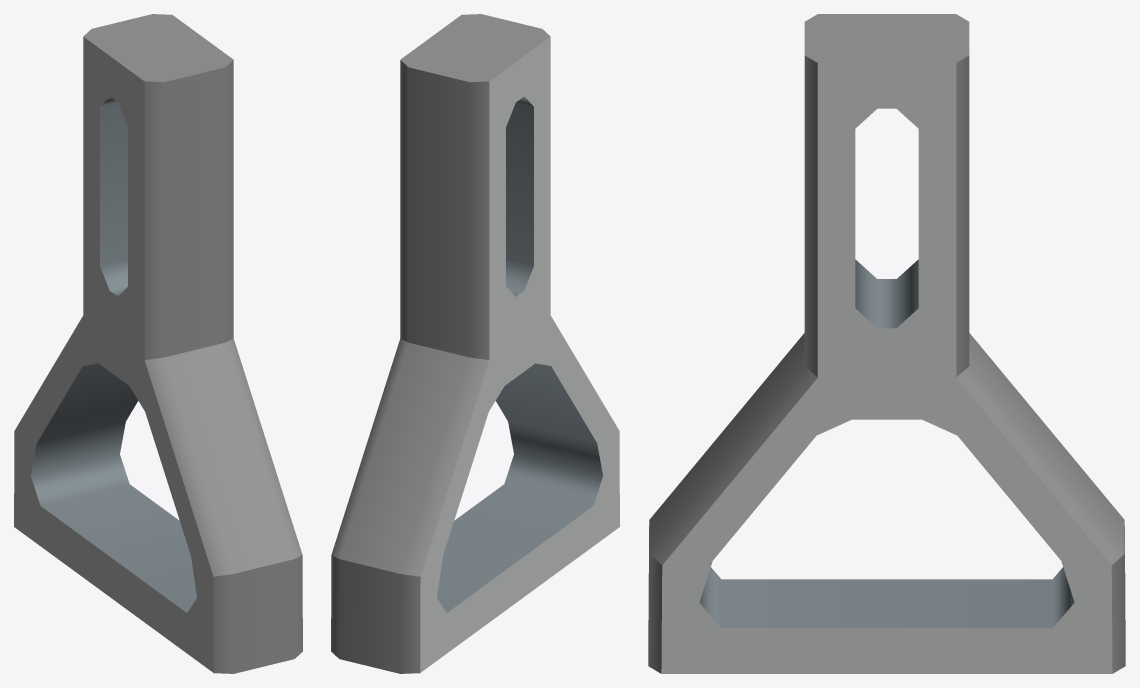
Rendered from Short_column_002.glb.
The picture shows the model from 3 angles, left to right: view 1: azimuth 30°, elevation 25°; view 2: azimuth 150°, elevation 25°; view 3: azimuth 270°, elevation 25°; orthographic projection. The views are drawn at different scales.
Parts seen in each view (by area): view 1: Short_column_002; view 2: Short_column_002; view 3: Short_column_002.
Part boxes in pixels (x1,y1,x2,y2): Short_column_002: (14,14,302,673); Short_column_002: (331,14,619,673); Short_column_002: (648,14,1125,673).
Bounding box in the file's own units: 0.2241 × 1.3 × 0.9203.
1 material, 1 textured.
